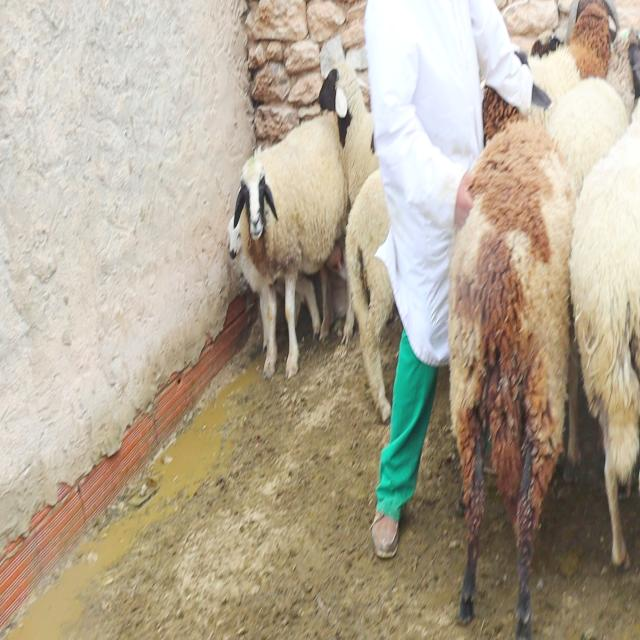Score_5: (449, 87, 575, 639)
